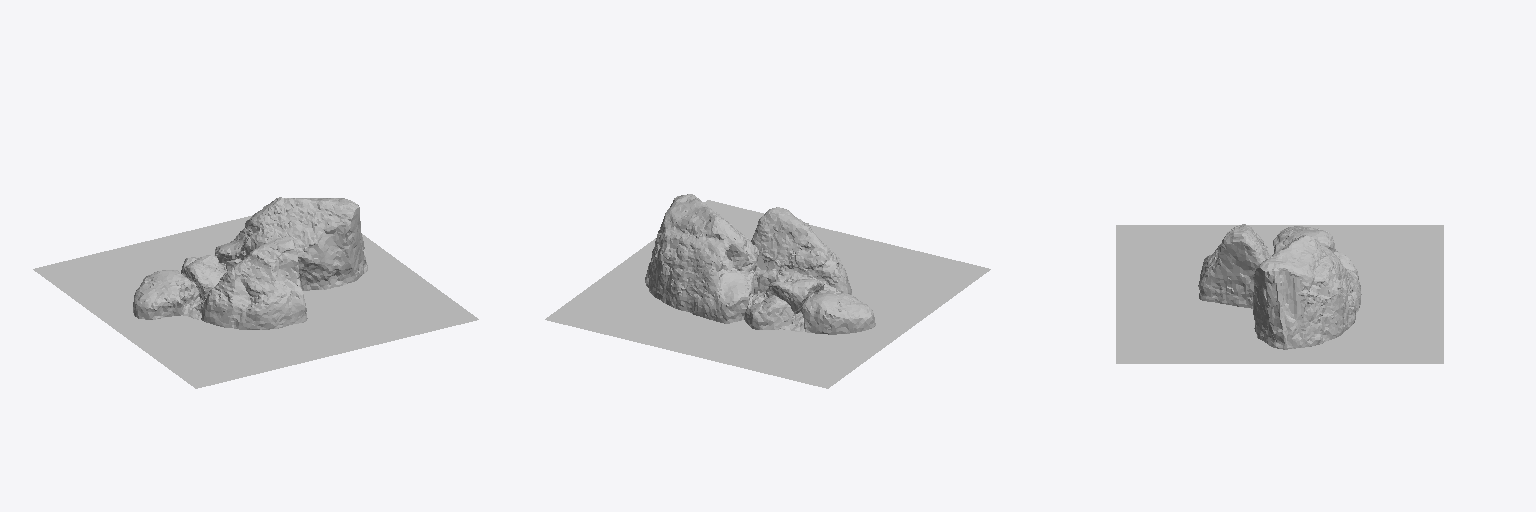
File: rock.obj
3 views of the same model, side by side, from view 1: azimuth 30°, elevation 25°; view 2: azimuth 150°, elevation 25°; view 3: azimuth 270°, elevation 25° (orthographic).
Parts seen in each view (by area): view 1: Cube, Aset_nature_rock_M_xf2obbt_00_LOD0; view 2: Cube, Aset_nature_rock_M_xf2obbt_00_LOD0; view 3: Cube, Aset_nature_rock_M_xf2obbt_00_LOD0.
Boxes of the visible parts, <box> form: Cube: <box>33,215,478,388</box>; Aset_nature_rock_M_xf2obbt_00_LOD0: <box>133,197,367,329</box>; Cube: <box>545,200,990,388</box>; Aset_nature_rock_M_xf2obbt_00_LOD0: <box>645,194,875,334</box>; Cube: <box>1116,225,1443,363</box>; Aset_nature_rock_M_xf2obbt_00_LOD0: <box>1198,224,1361,349</box>.
Size of the model in its own units: 491 by 130 by 491.